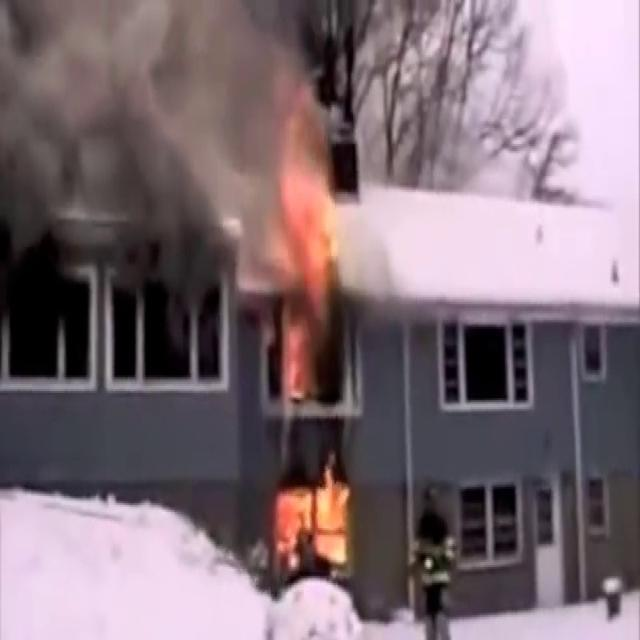Fire: (266, 118, 358, 378), (268, 448, 362, 583)
Smoke: (0, 0, 327, 244)
